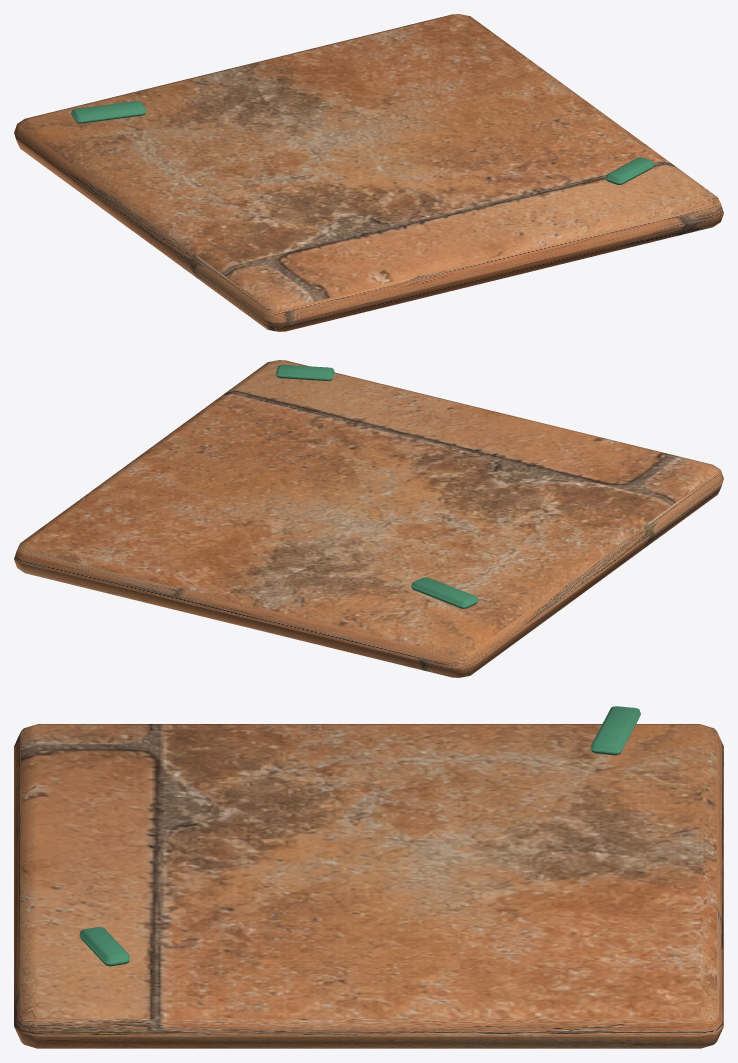
File: w1_tile_normal.glb
3 views of the same model, one above another, from view 1: azimuth 30°, elevation 25°; view 2: azimuth 150°, elevation 25°; view 3: azimuth 270°, elevation 25° (orthographic). The views are drawn at different scales.
Visible parts, largest first — view 1: w1_tile_normal; view 2: w1_tile_normal; view 3: w1_tile_normal.
Boxes of the visible parts, x1=… form: w1_tile_normal: x1=14, y1=14, x2=723, y2=331; w1_tile_normal: x1=14, y1=360, x2=723, y2=677; w1_tile_normal: x1=14, y1=706, x2=723, y2=1048.
Size of the model in its own units: 1.64 by 0.186 by 1.64.
2 materials, 1 textured.
